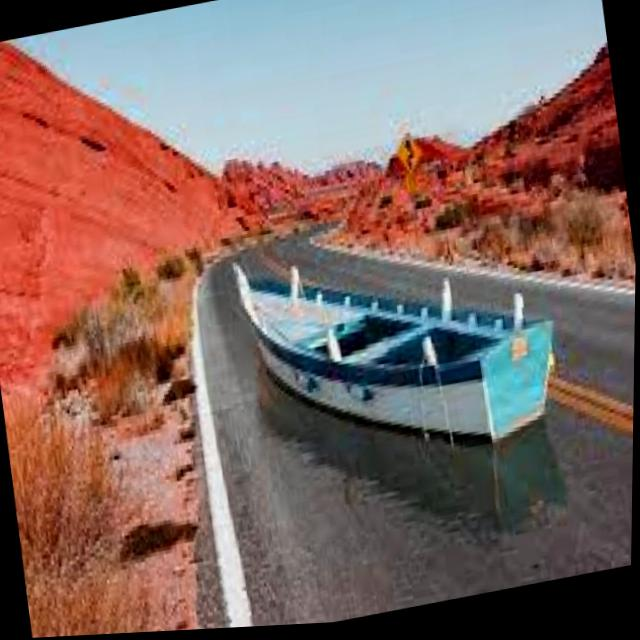ship2: (231, 259, 555, 452)
